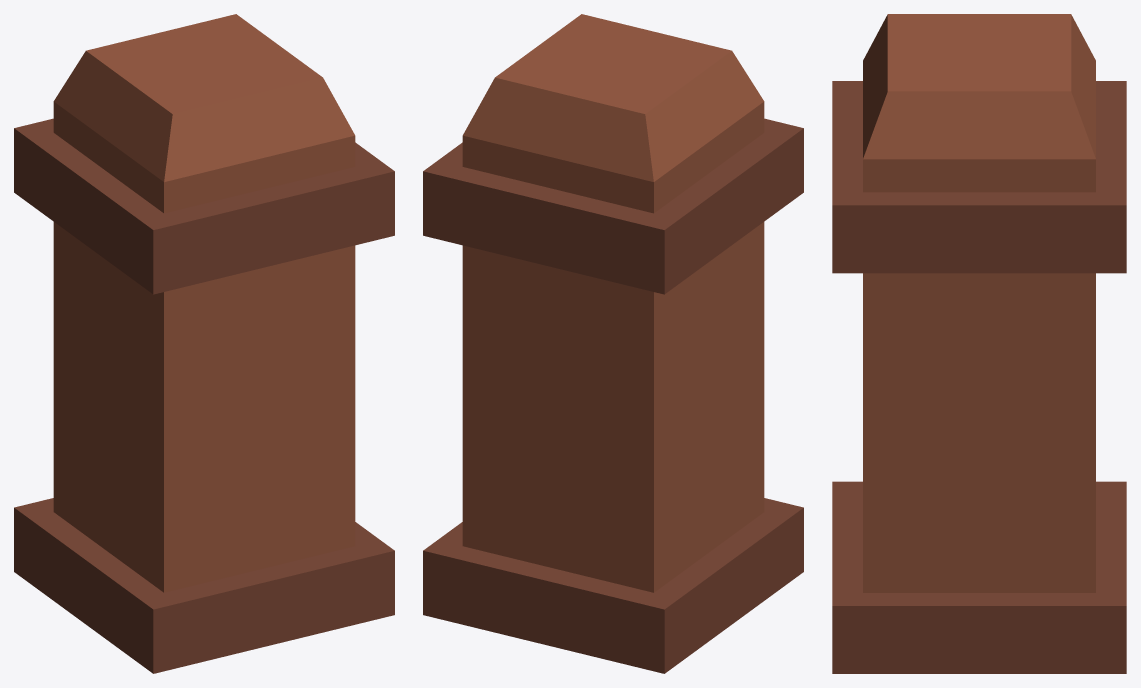
The model's file is FenceEnd.glb.
3 views of the same model, side by side, from view 1: azimuth 30°, elevation 25°; view 2: azimuth 150°, elevation 25°; view 3: azimuth 270°, elevation 25° (orthographic). The views are drawn at different scales.
Visible parts, largest first — view 1: Cube_150; view 2: Cube_150; view 3: Cube_150.
Part boxes in pixels (x1,y1,x2,y2): Cube_150: [14, 14, 394, 673]; Cube_150: [423, 14, 803, 673]; Cube_150: [832, 14, 1126, 673].
Bounding box in the file's own units: 0.4384 × 0.9187 × 0.4384.
Materials: 1 (1 with a texture image).
